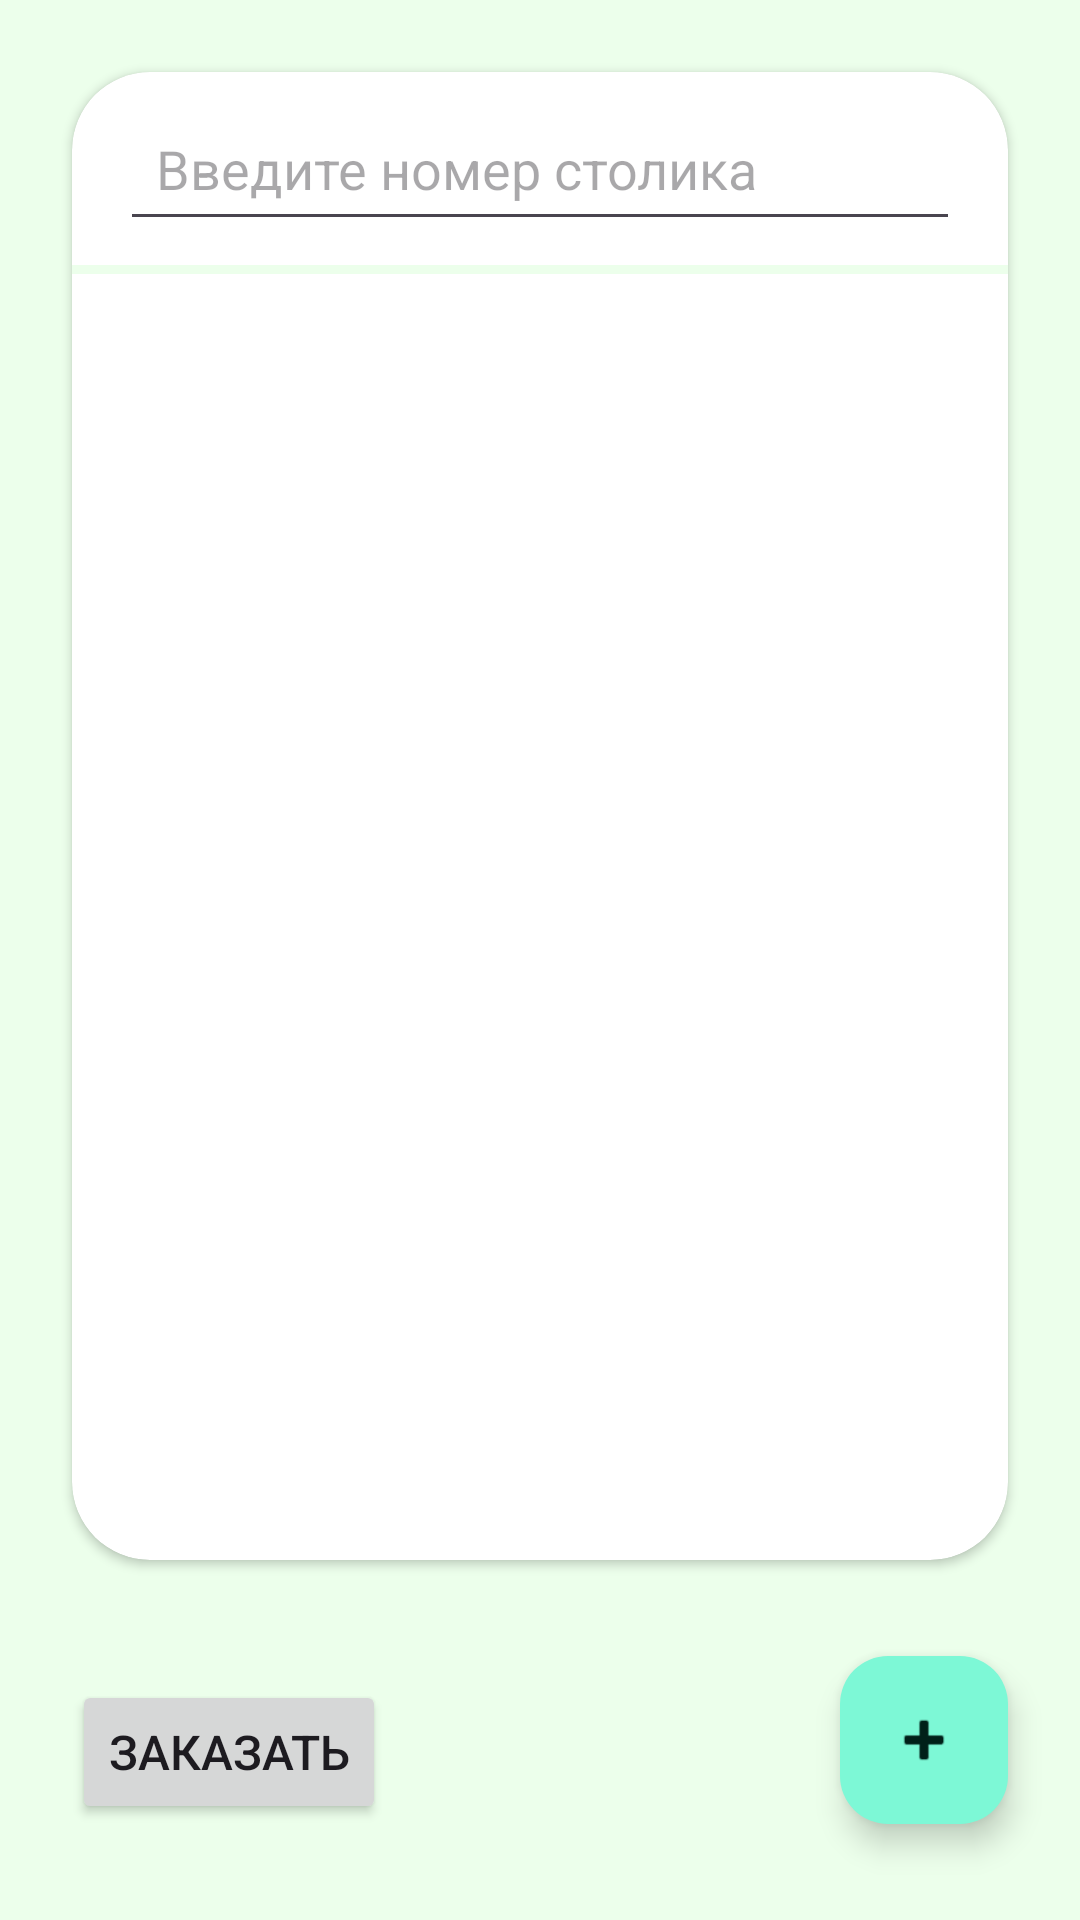

Named icons in this screenshot (1080x1920) and their centers, [x,y]:
add: [924,1740]
